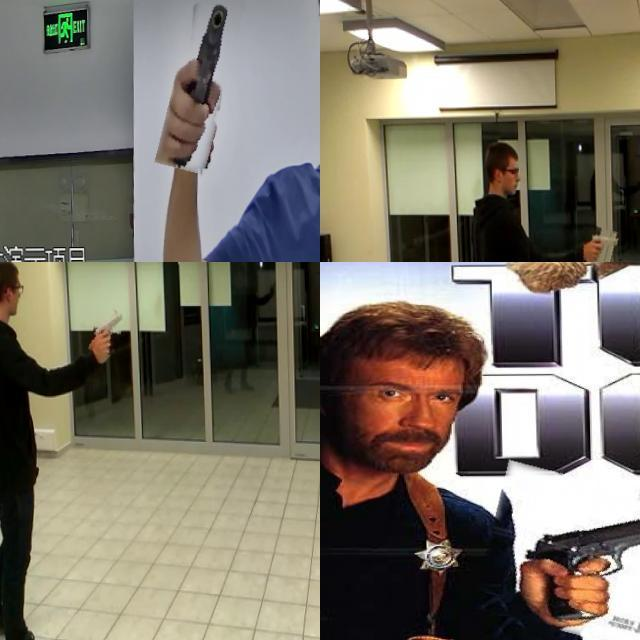gun-knife-thesis - v11 Yolov5 augmented: (476, 469, 640, 640), (159, 0, 236, 174), (89, 310, 123, 355), (574, 226, 616, 262)
